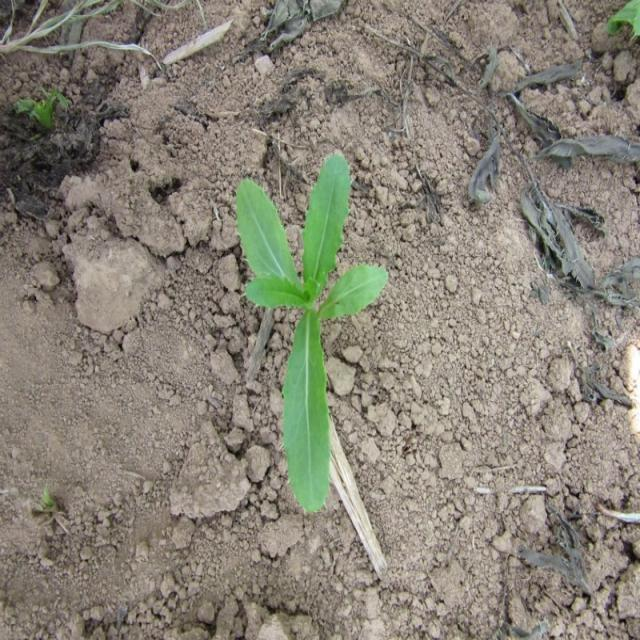cs: (230, 146, 392, 516)
